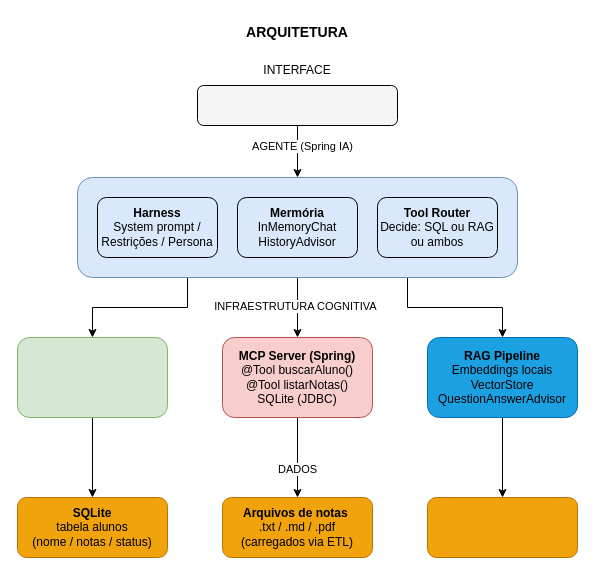
Some shapes in this 595 by 575 pixel diagram are drawn without their labels. The centre of each missing label's shape, as x and y in pixels:
"CLI conversacional Spring Shell (histórico de contexto)" goes at point (297, 105).
"LLM local Ollama + LLaMA 3 / OpenAI-compat.API" goes at point (92, 377).
"Vector Store PGvector (local) ou Chroma / Qdrant" goes at point (502, 527).
